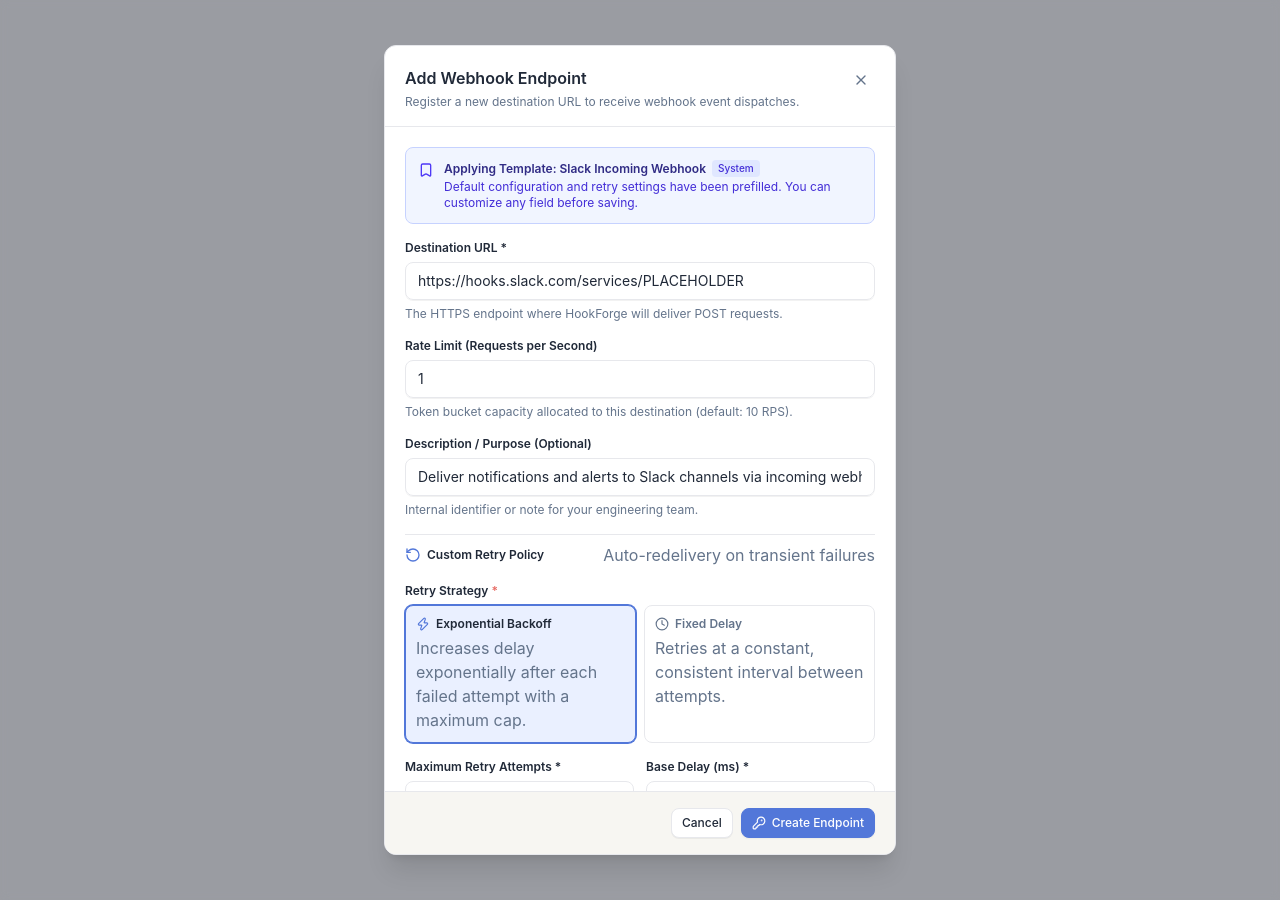
Scenario: Phase 2 – Vani's Task 1: Webhook Templates (Frontend) › 5. CreateEndpointModal with Template Prefill › allows customizing all settings before creating endpoint
Replace the text in the field labelled "Destination URL *" with "https://hooks.slack.com/services/CUSTOM_HOOK_123" at [640, 281], box [405,262,875,300]
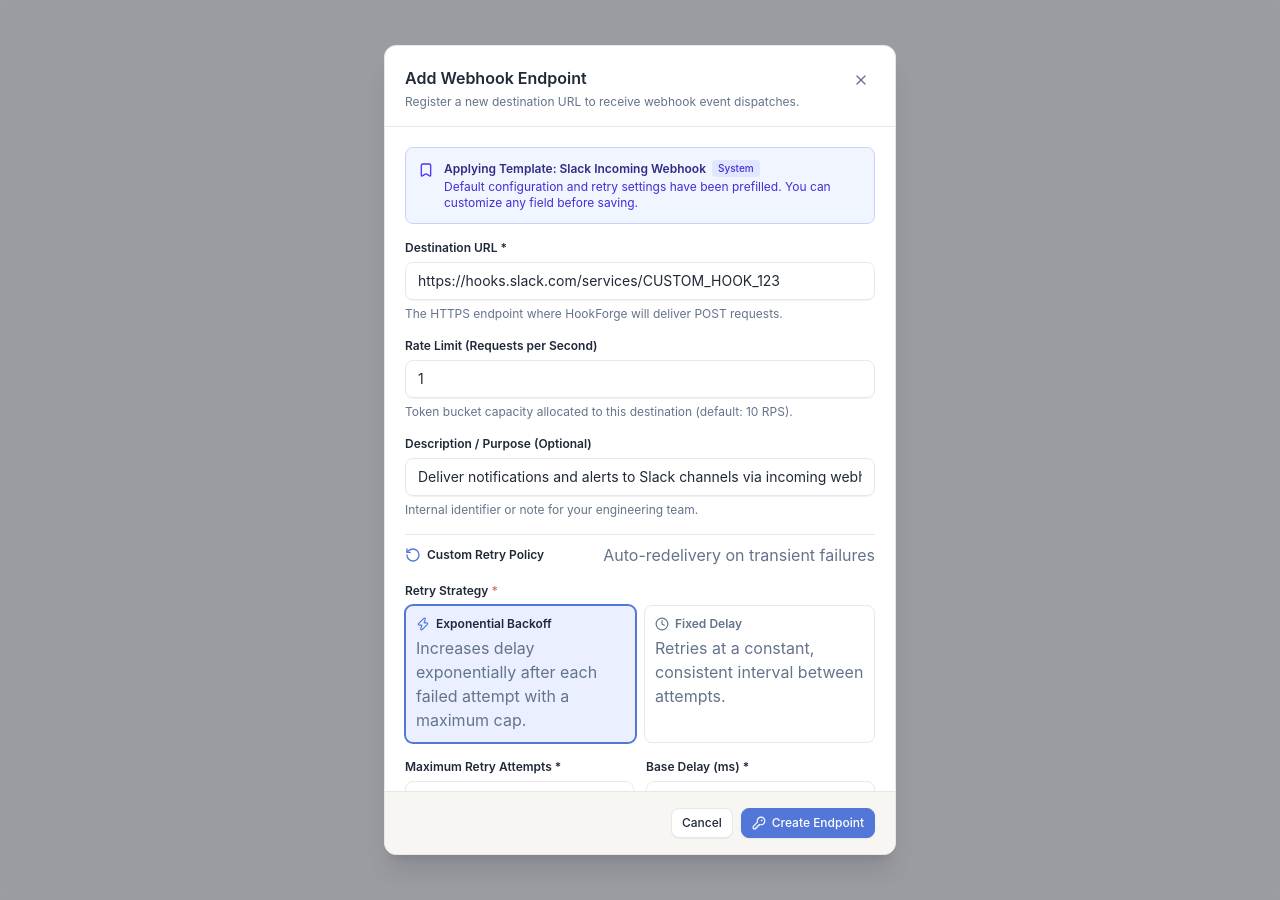
Replace the text in the number field labelled "Rate Limit (Requests per Second)" with "15" at [640, 379], box [405,360,875,398]
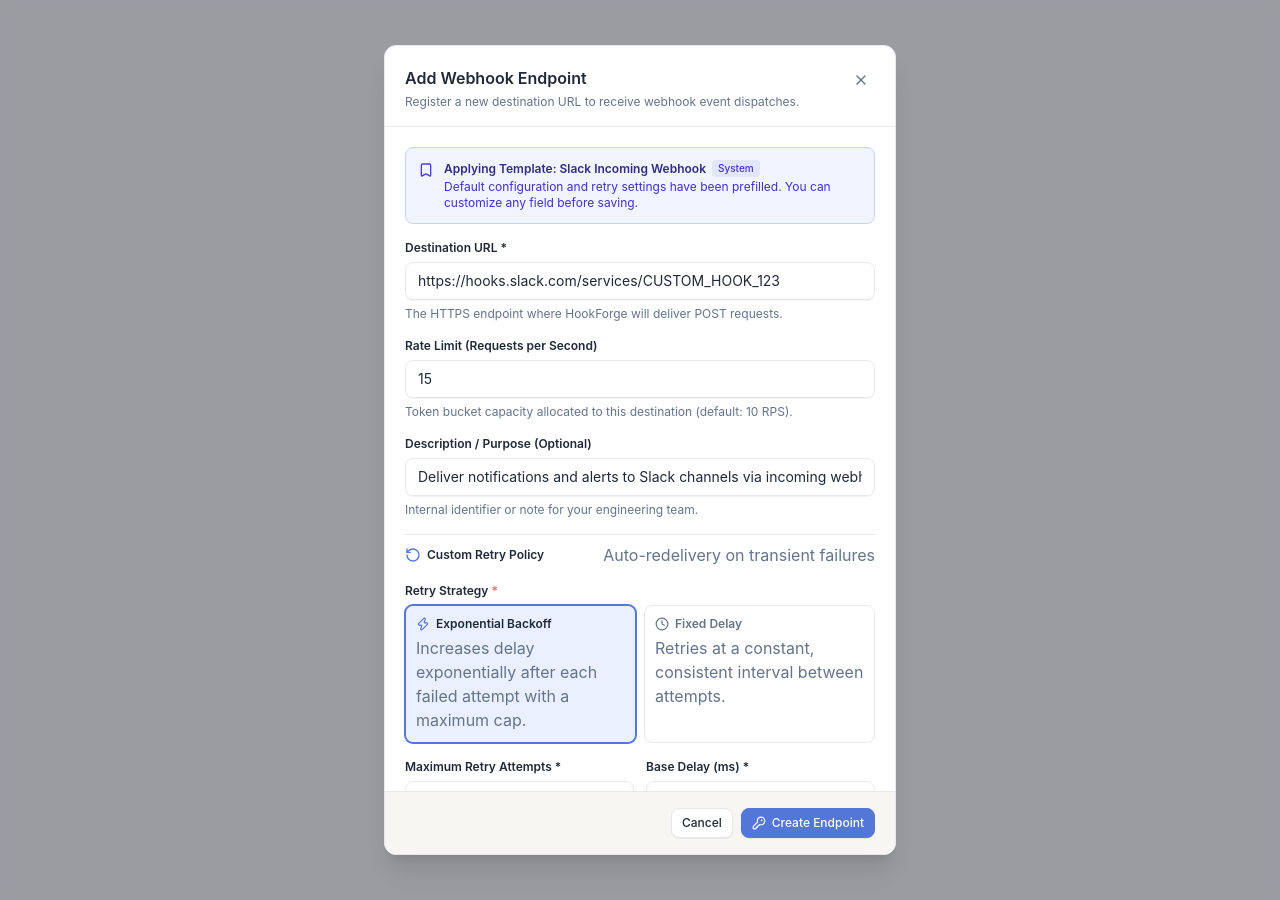
Click the button "Create Endpoint" at [808, 823], box [741,808,875,838]
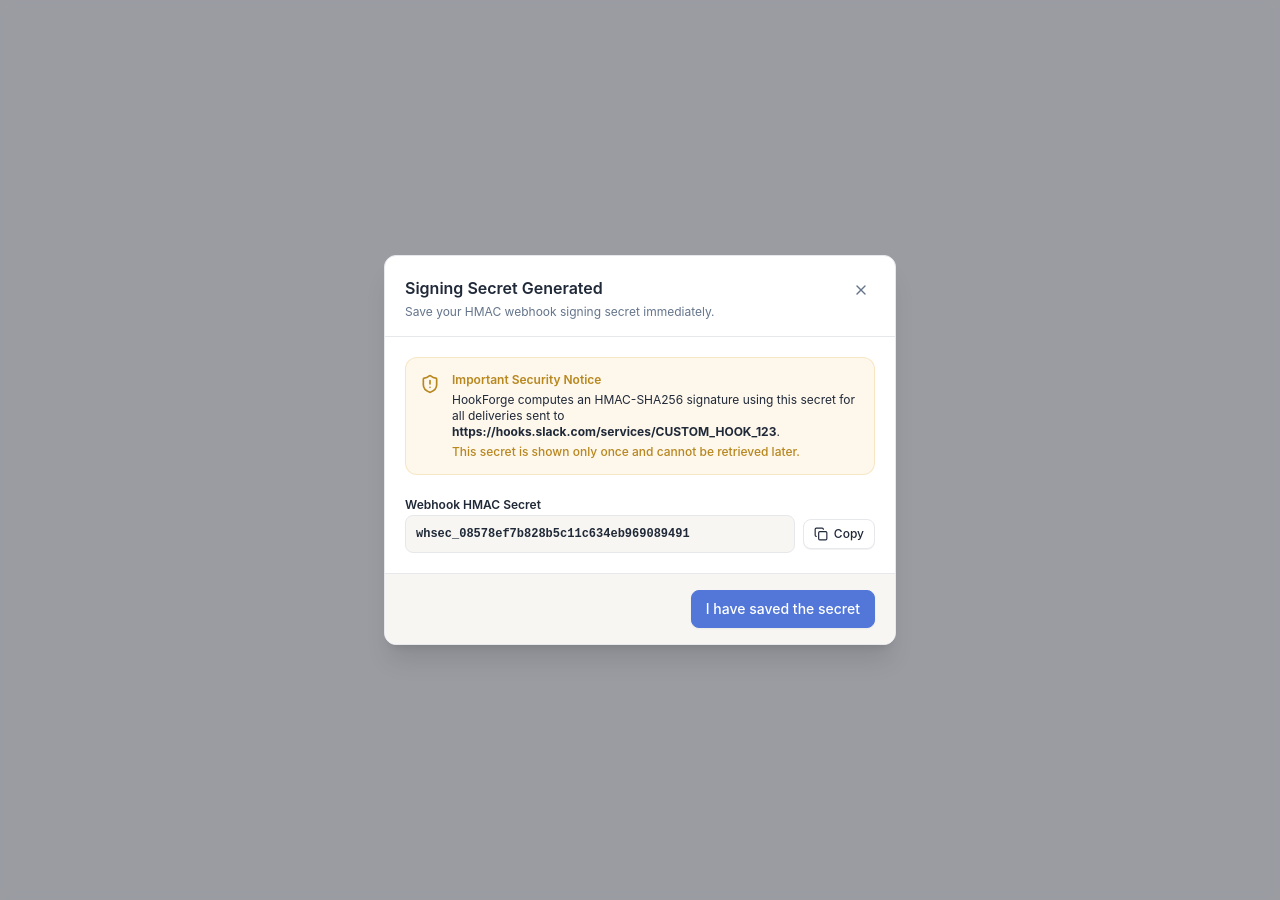
Result: the heading "Signing Secret Generated" is shown at [405,278,603,298]
